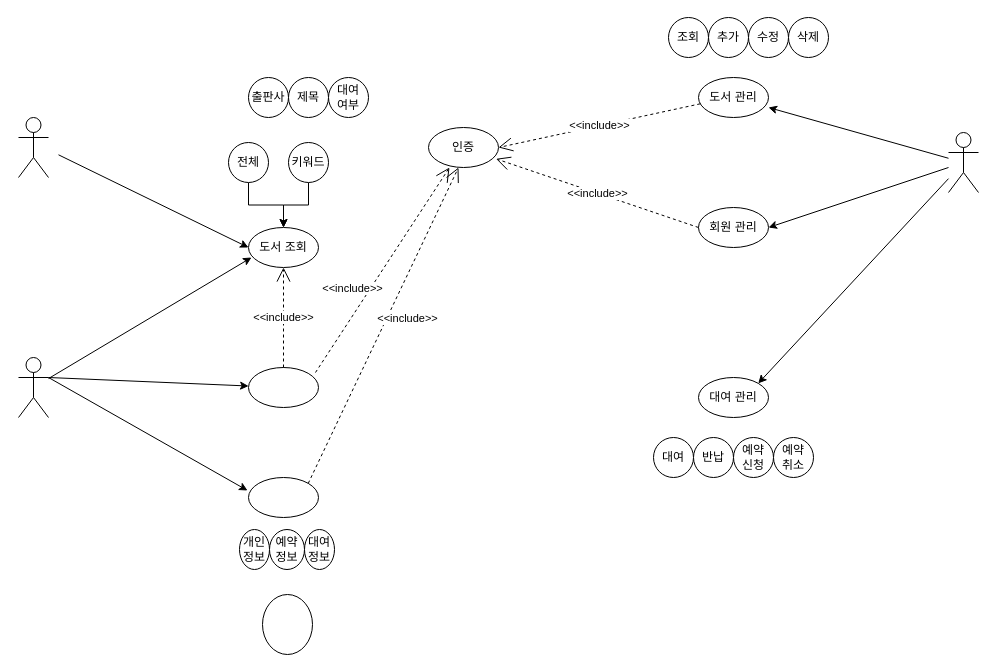
This 996x672 diagram has some shape labels left out. Each missing label, with the box of its shape:
나의정보: (248, 476, 318, 518)
대여예약: (248, 366, 318, 408)
메시지 확인: (262, 594, 312, 654)
비회원: (18, 116, 48, 178)
사서: (948, 132, 978, 192)
회원: (18, 356, 48, 418)
